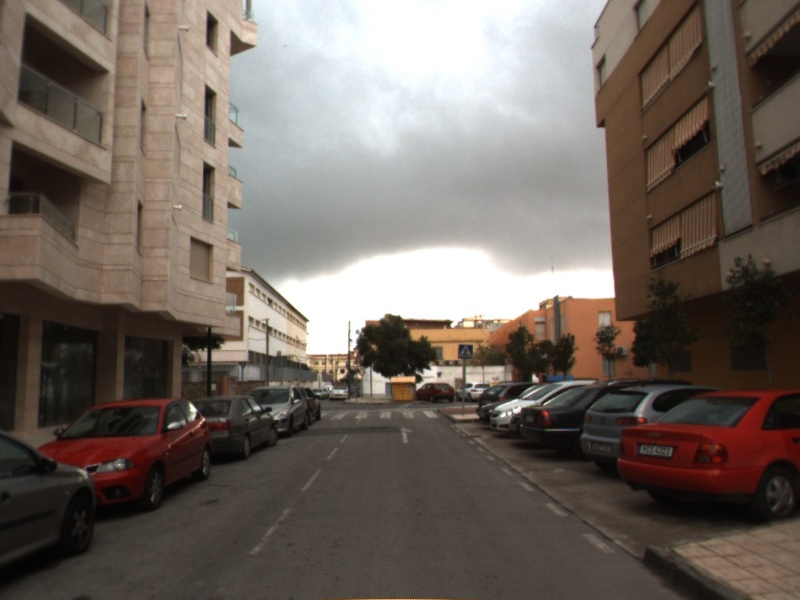STRAIGHT: (396, 425, 417, 445)
